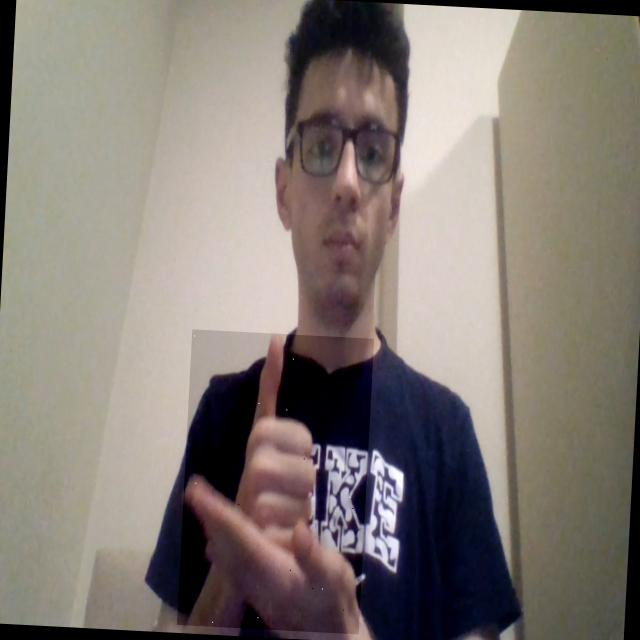help: (177, 330, 374, 635)
